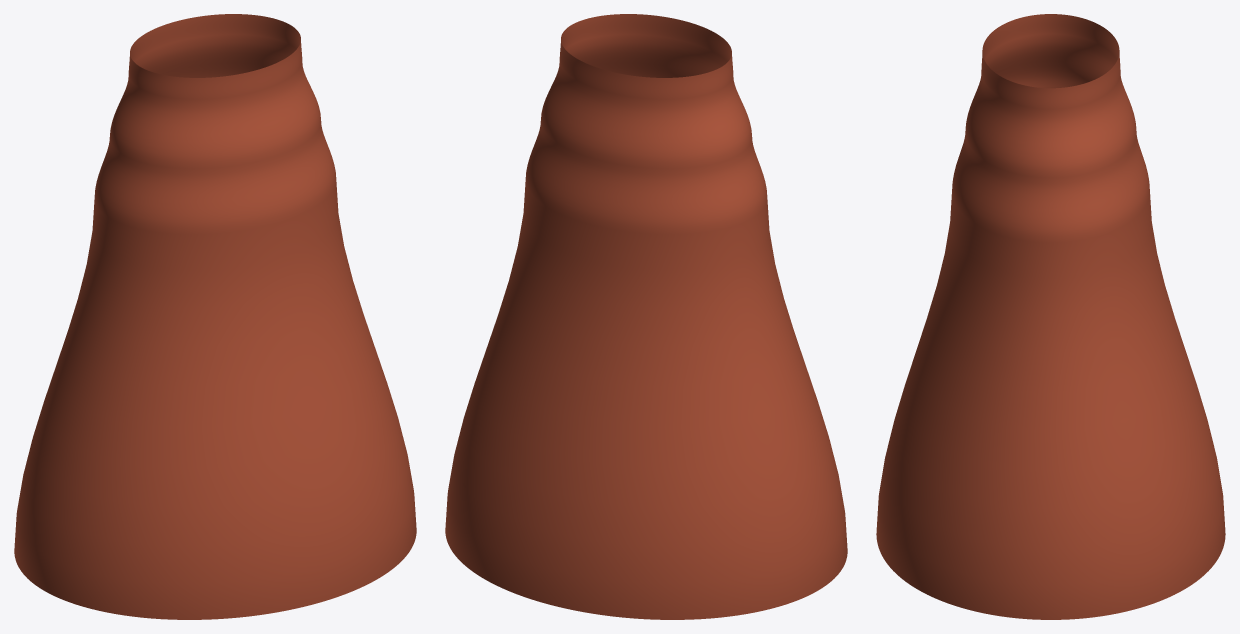
Rendered from demo-a-line-skirt--terracotta--s.r2.glb.
3 views of the same model, side by side, from view 1: azimuth 30°, elevation 25°; view 2: azimuth 150°, elevation 25°; view 3: azimuth 270°, elevation 25° (orthographic). The views are drawn at different scales.
Visible parts, largest first — view 1: demo-a-line-skirt--terracotta--s; view 2: demo-a-line-skirt--terracotta--s; view 3: demo-a-line-skirt--terracotta--s.
Boxes of the visible parts, left/top/right/bottom form: demo-a-line-skirt--terracotta--s: left=14, top=14, right=416, bottom=619; demo-a-line-skirt--terracotta--s: left=445, top=14, right=847, bottom=619; demo-a-line-skirt--terracotta--s: left=876, top=14, right=1225, bottom=619.
Bounding box in the file's own units: 0.5674 × 0.745 × 0.4879.
